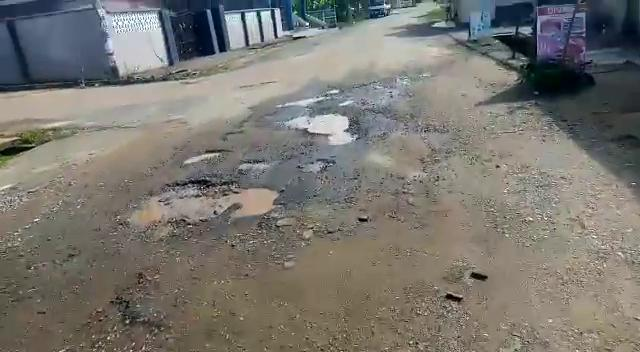pothole: (117, 176, 286, 226), (278, 110, 354, 140), (184, 148, 231, 166), (234, 79, 283, 92), (294, 160, 330, 173), (238, 159, 276, 170)
